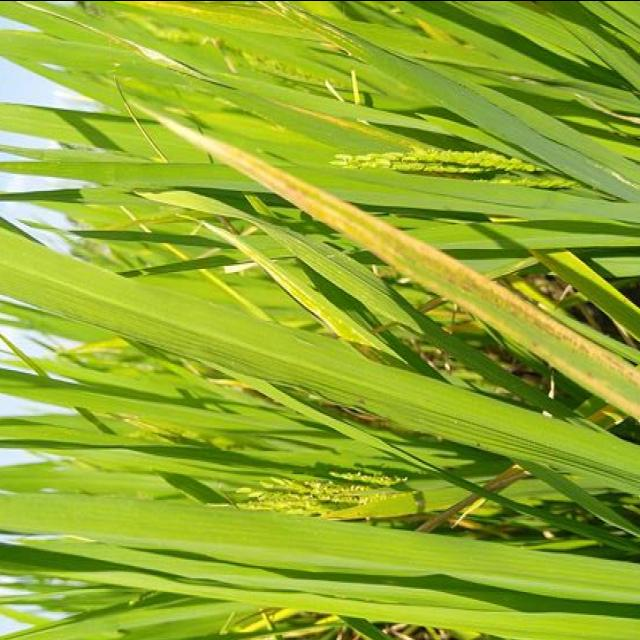Leaf Streak: (146, 112, 640, 420)
